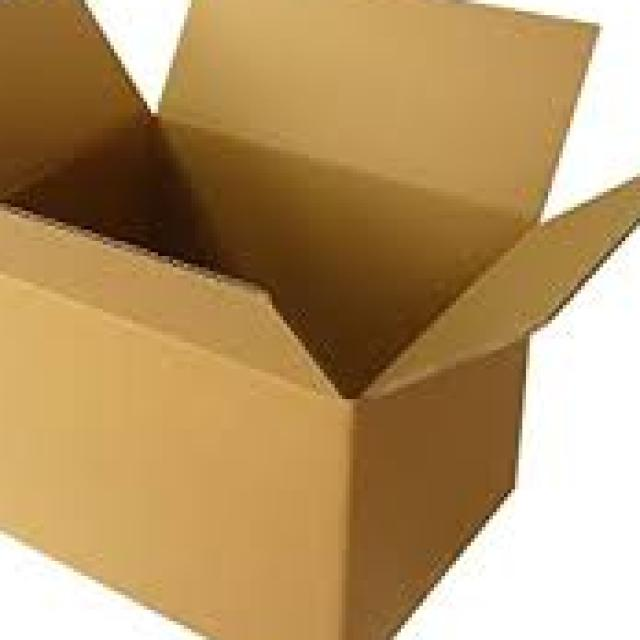organic: (3, 0, 622, 627)
